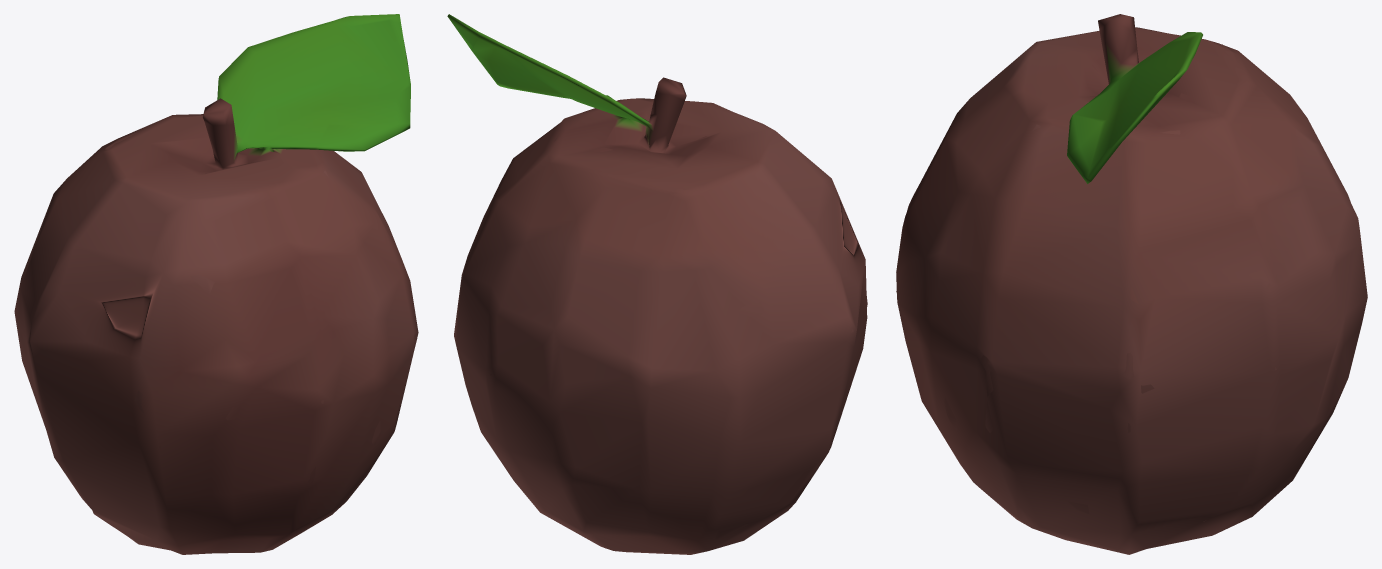
The model's file is gen3d-peach-lod0.glb.
3 renders of one model, left to right at view 1: azimuth 30°, elevation 25°; view 2: azimuth 150°, elevation 25°; view 3: azimuth 270°, elevation 25°, orthographic. The views are drawn at different scales.
Parts seen in each view (by area): view 1: part_0; view 2: part_0; view 3: part_0.
Part boxes in pixels (x1,y1,x2,y2): part_0: [14, 14, 418, 554]; part_0: [447, 14, 867, 554]; part_0: [896, 14, 1367, 554].
Size of the model in its own units: 0.8666 by 0.9985 by 0.7853.
